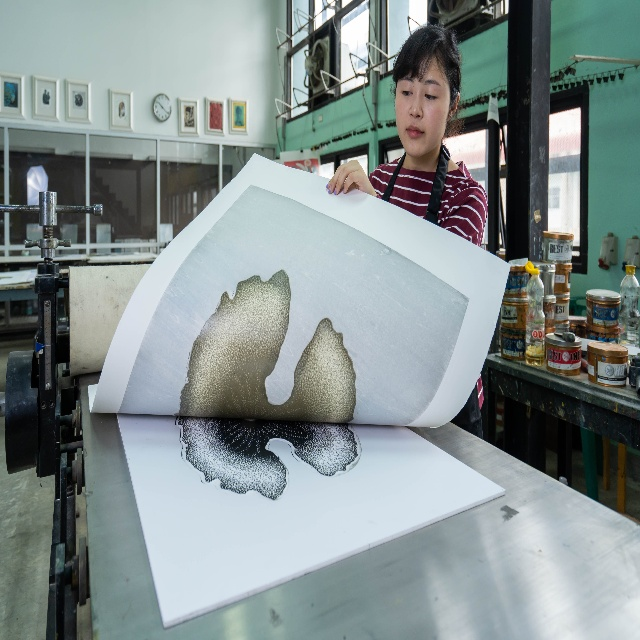Sin_guantes: (326, 160, 374, 195)
